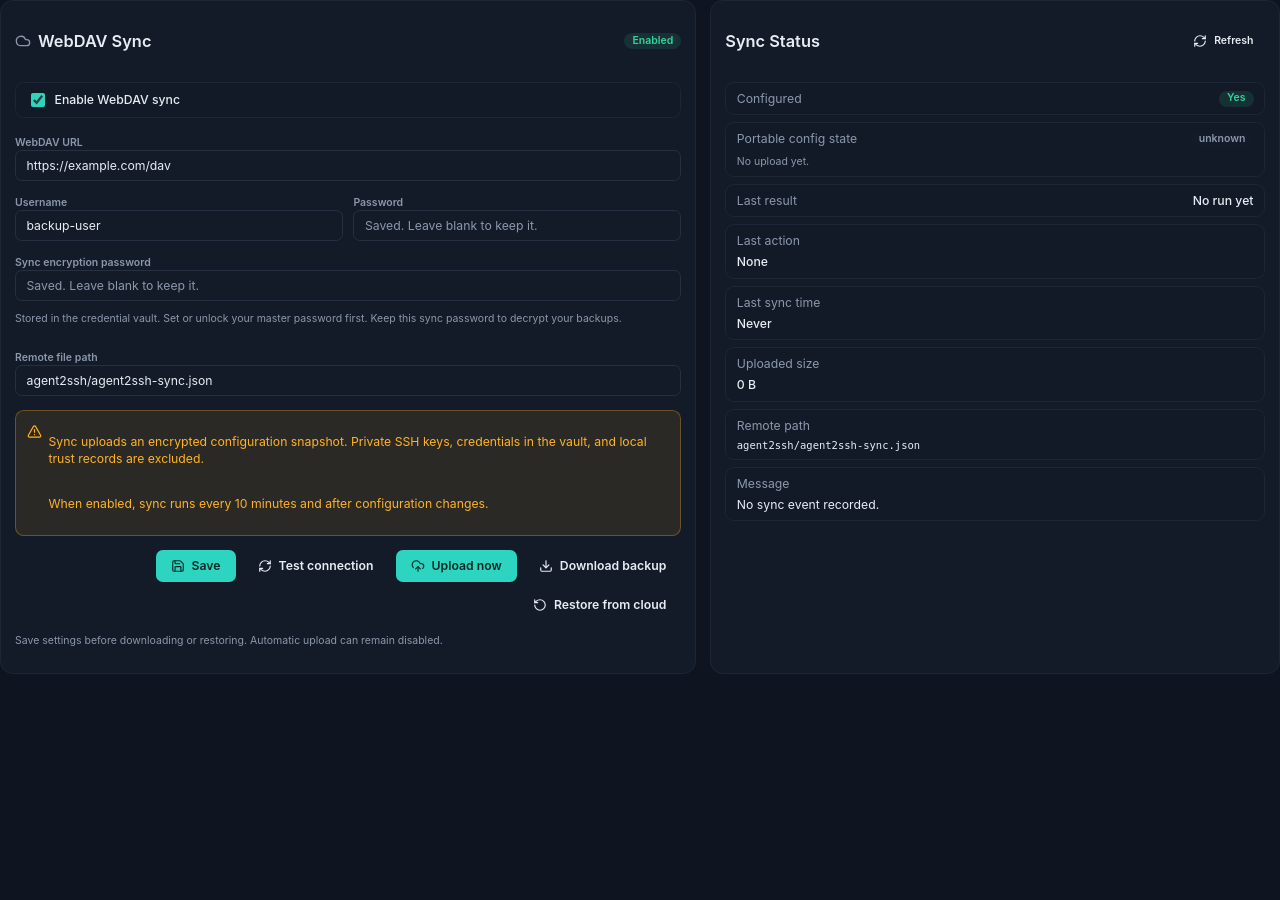
Scenario: SyncPanel encrypted upload settings › uploads with an already configured password while leaving the password field empty
Expected: the field labelled "WebDAV URL" holds "https://example.com/dav", [15,150,681,181]
Expected: the button "Save" is enabled, [156,550,236,582]
Step 1. Click the button "Upload now" → (456, 566), box [396,550,517,582]
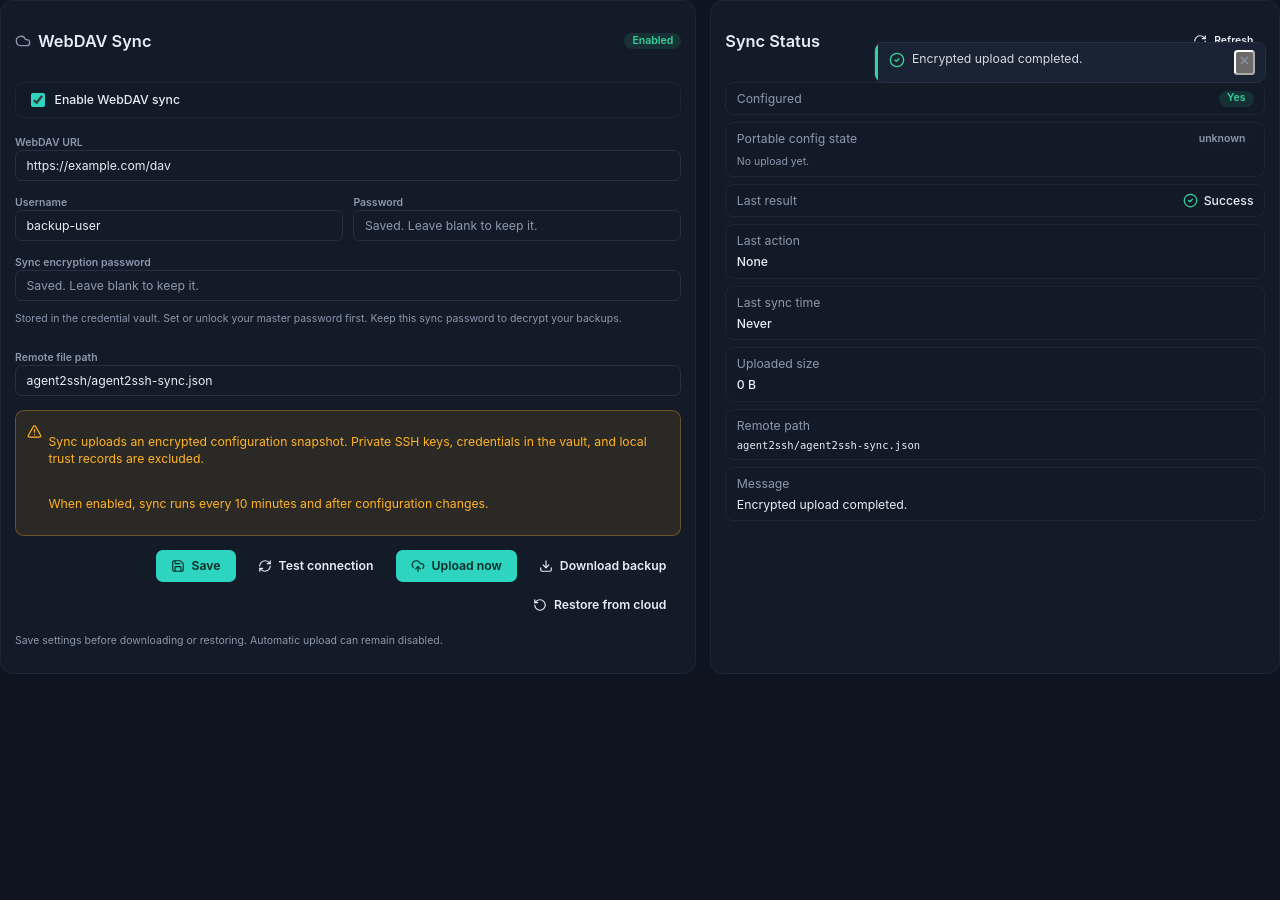
Now the text "Encrypted upload completed." below "Message" is shown, box [737,497,907,512]
